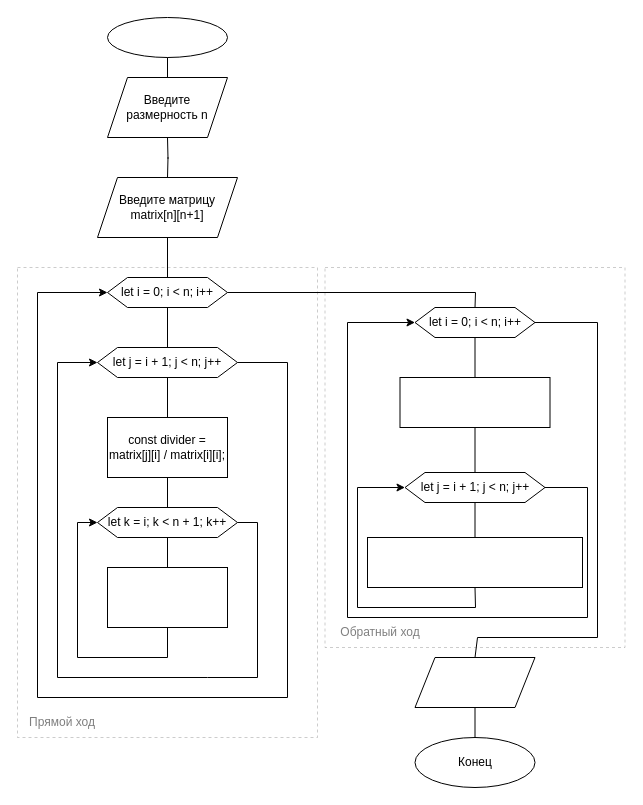
The diagram is 643 pixels wide and 805 high, and some of its shapes have lost their labels. Here are the shapes that lost their labels. From the top down, the box of each, then its label:
(106, 16, 228, 58): Старт
(399, 376, 550, 428): matrix[i][n] /= matrix[i][i];
(366, 536, 582, 588): matrix[j][n] -= matrix[j][i] * matrix[i][n];
(106, 566, 228, 628): matrix[j][k] -= divider * matrix[i][k];
(414, 656, 535, 708): Вывод корней решения
